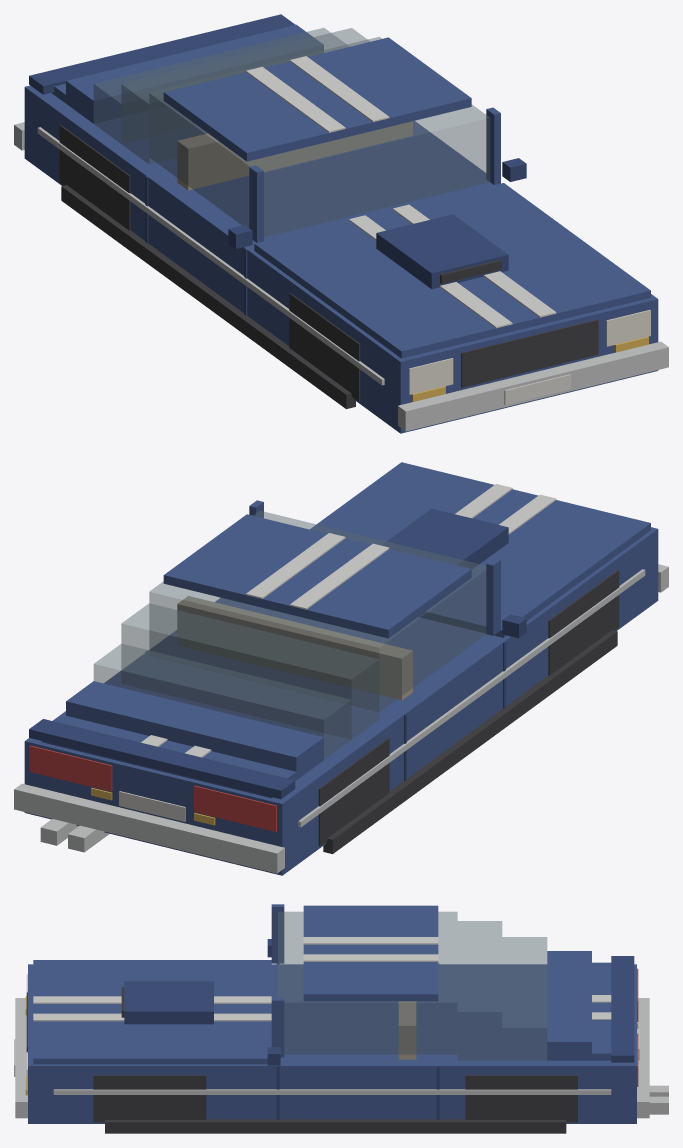
Rendered from muscle_body.glb.
The picture shows the model from 3 angles, top to bottom: view 1: azimuth 30°, elevation 25°; view 2: azimuth 150°, elevation 25°; view 3: azimuth 270°, elevation 25°; orthographic projection. The views are drawn at different scales.
Visible parts, largest first — view 1: verda_tempesto; view 2: verda_tempesto; view 3: verda_tempesto.
Boxes of the visible parts, x1,y1,x2,y2 form: verda_tempesto: [14, 14, 668, 433]; verda_tempesto: [14, 462, 668, 875]; verda_tempesto: [14, 904, 668, 1133].
Size of the model in its own units: 2.12 by 1.13 by 5.11.
